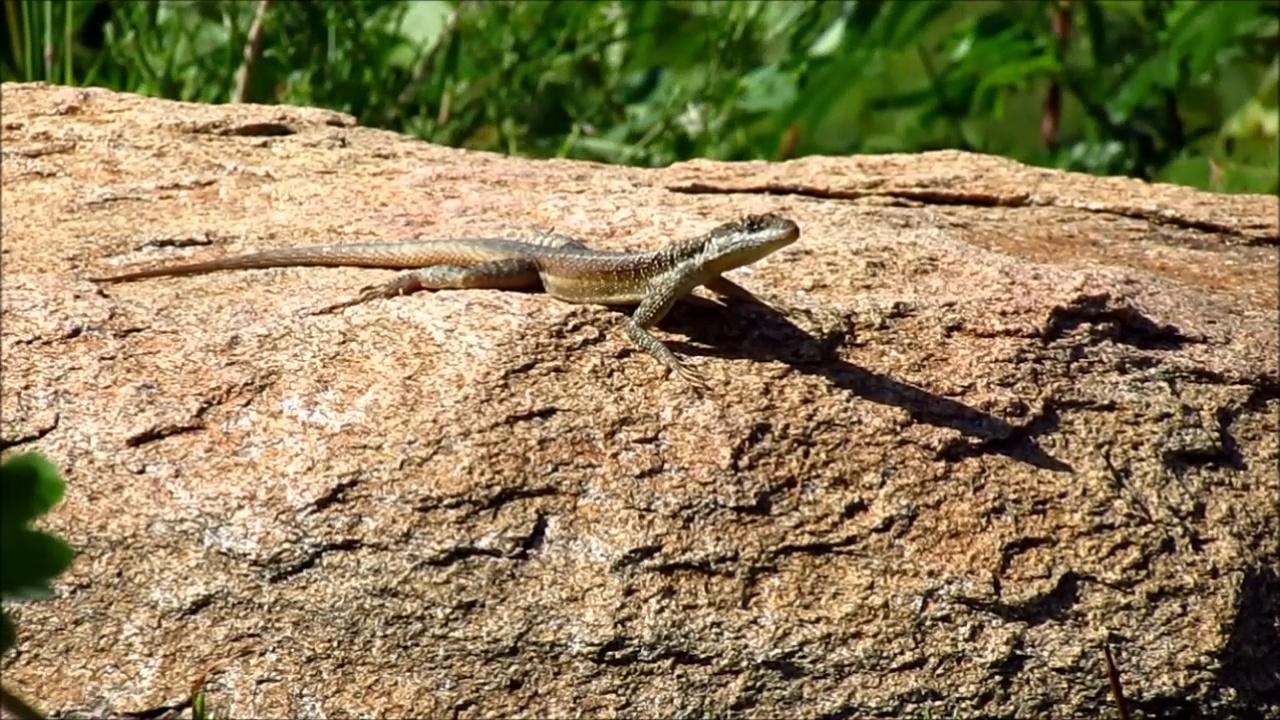body: (86, 229, 713, 402)
head: (703, 213, 800, 263)
